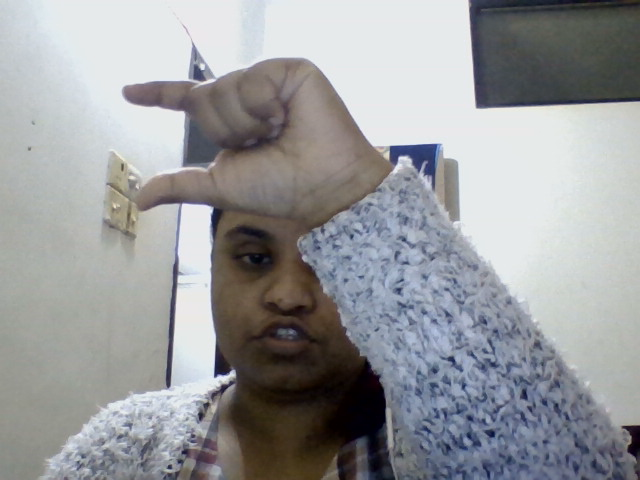No: (97, 57, 446, 310)
